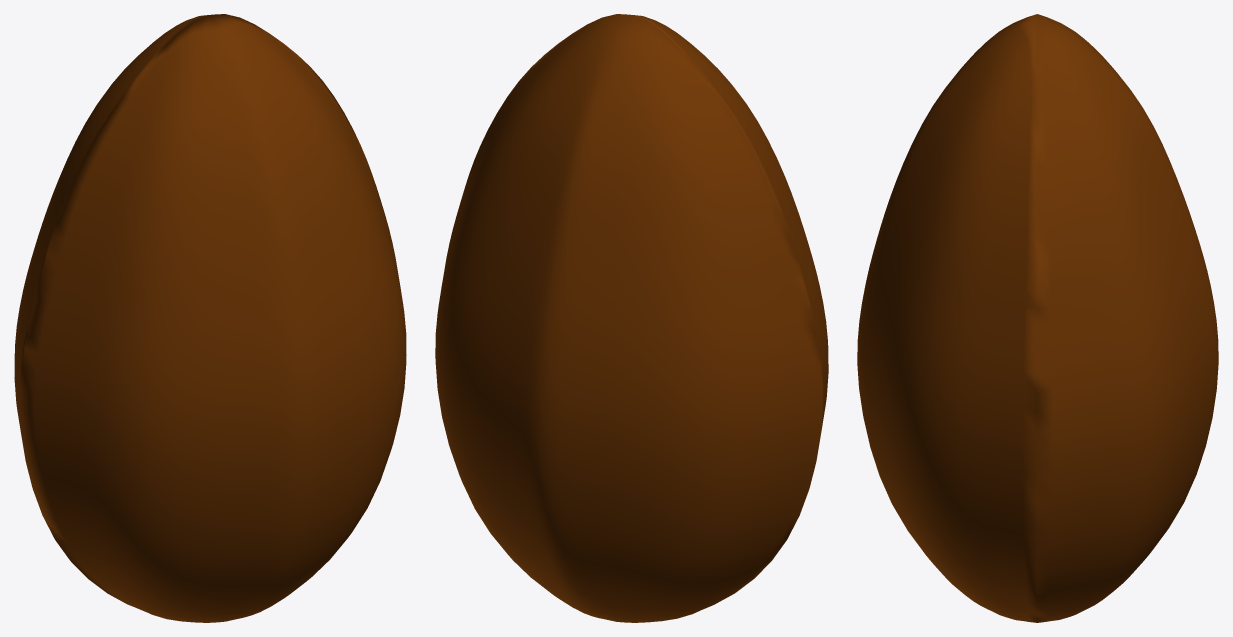
The model's file is seed.fbx.
3 views of the same model, side by side, from view 1: azimuth 30°, elevation 25°; view 2: azimuth 150°, elevation 25°; view 3: azimuth 270°, elevation 25° (orthographic).
Visible parts, largest first — view 1: seed; view 2: seed; view 3: seed.
Part boxes in pixels (<box>): seed: <box>14,14,406,622</box>; seed: <box>435,14,828,622</box>; seed: <box>857,14,1218,622</box>.
Size of the model in its own units: 1.35 by 2.03 by 1.13.
